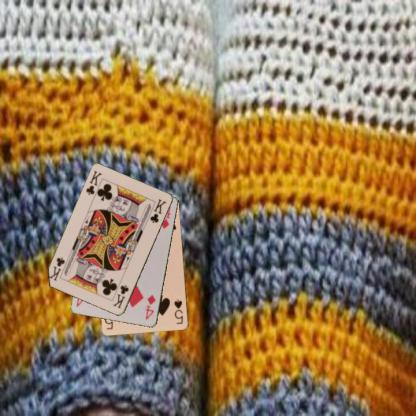4d: (143, 292, 157, 322)
5s: (172, 297, 184, 325)
Kc: (83, 168, 103, 197), (110, 282, 130, 310)
